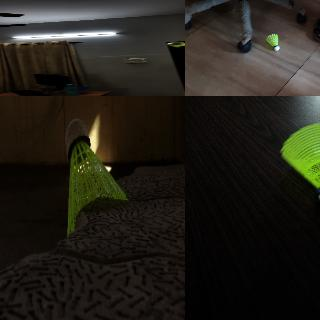shuttlecock: (65, 118, 127, 234), (278, 122, 319, 208), (265, 34, 279, 50), (167, 42, 184, 46)
